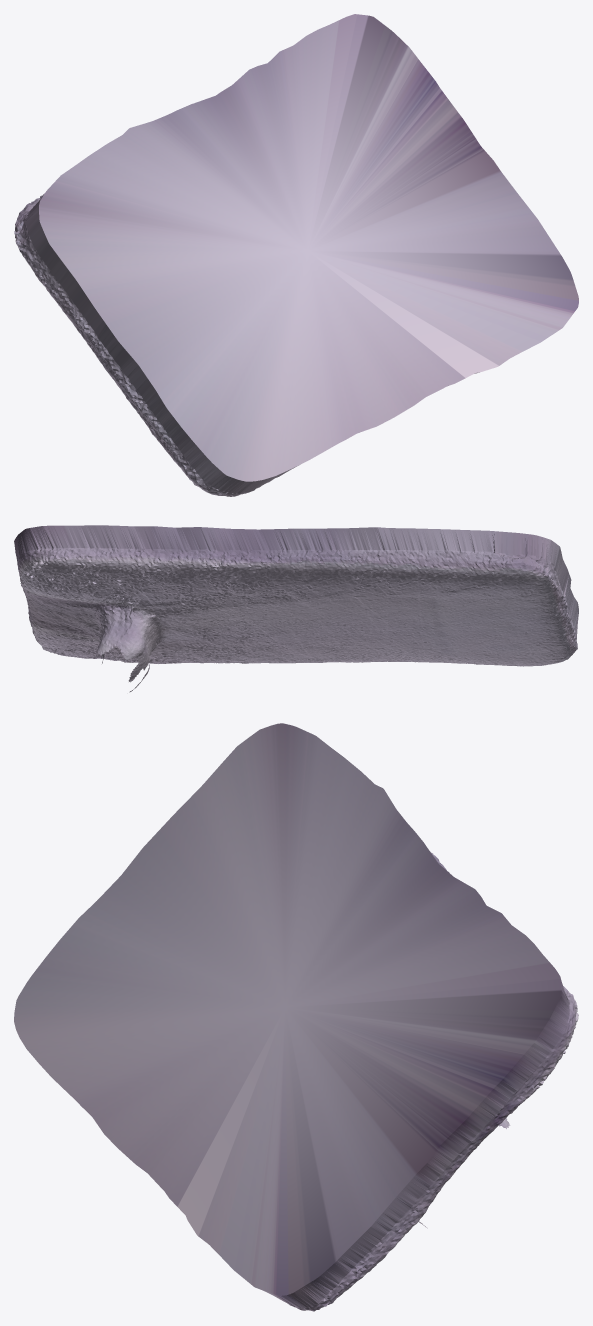
The model's file is link_1_head_rgb.gltf.
The picture shows the model from 3 angles, top to bottom: view 1: azimuth 30°, elevation 25°; view 2: azimuth 150°, elevation 25°; view 3: azimuth 270°, elevation 25°; orthographic projection. The views are drawn at different scales.
Parts seen in each view (by area): view 1: watertight_raw_mesh_multiview_rgb.ply; view 2: watertight_raw_mesh_multiview_rgb.ply; view 3: watertight_raw_mesh_multiview_rgb.ply.
Part boxes in pixels (x1,y1,x2,y2): watertight_raw_mesh_multiview_rgb.ply: (14,14,578,496); watertight_raw_mesh_multiview_rgb.ply: (14,525,578,692); watertight_raw_mesh_multiview_rgb.ply: (14,723,578,1311).
Bounding box in the file's own units: 0.1946 × 0.0872 × 0.1463.
